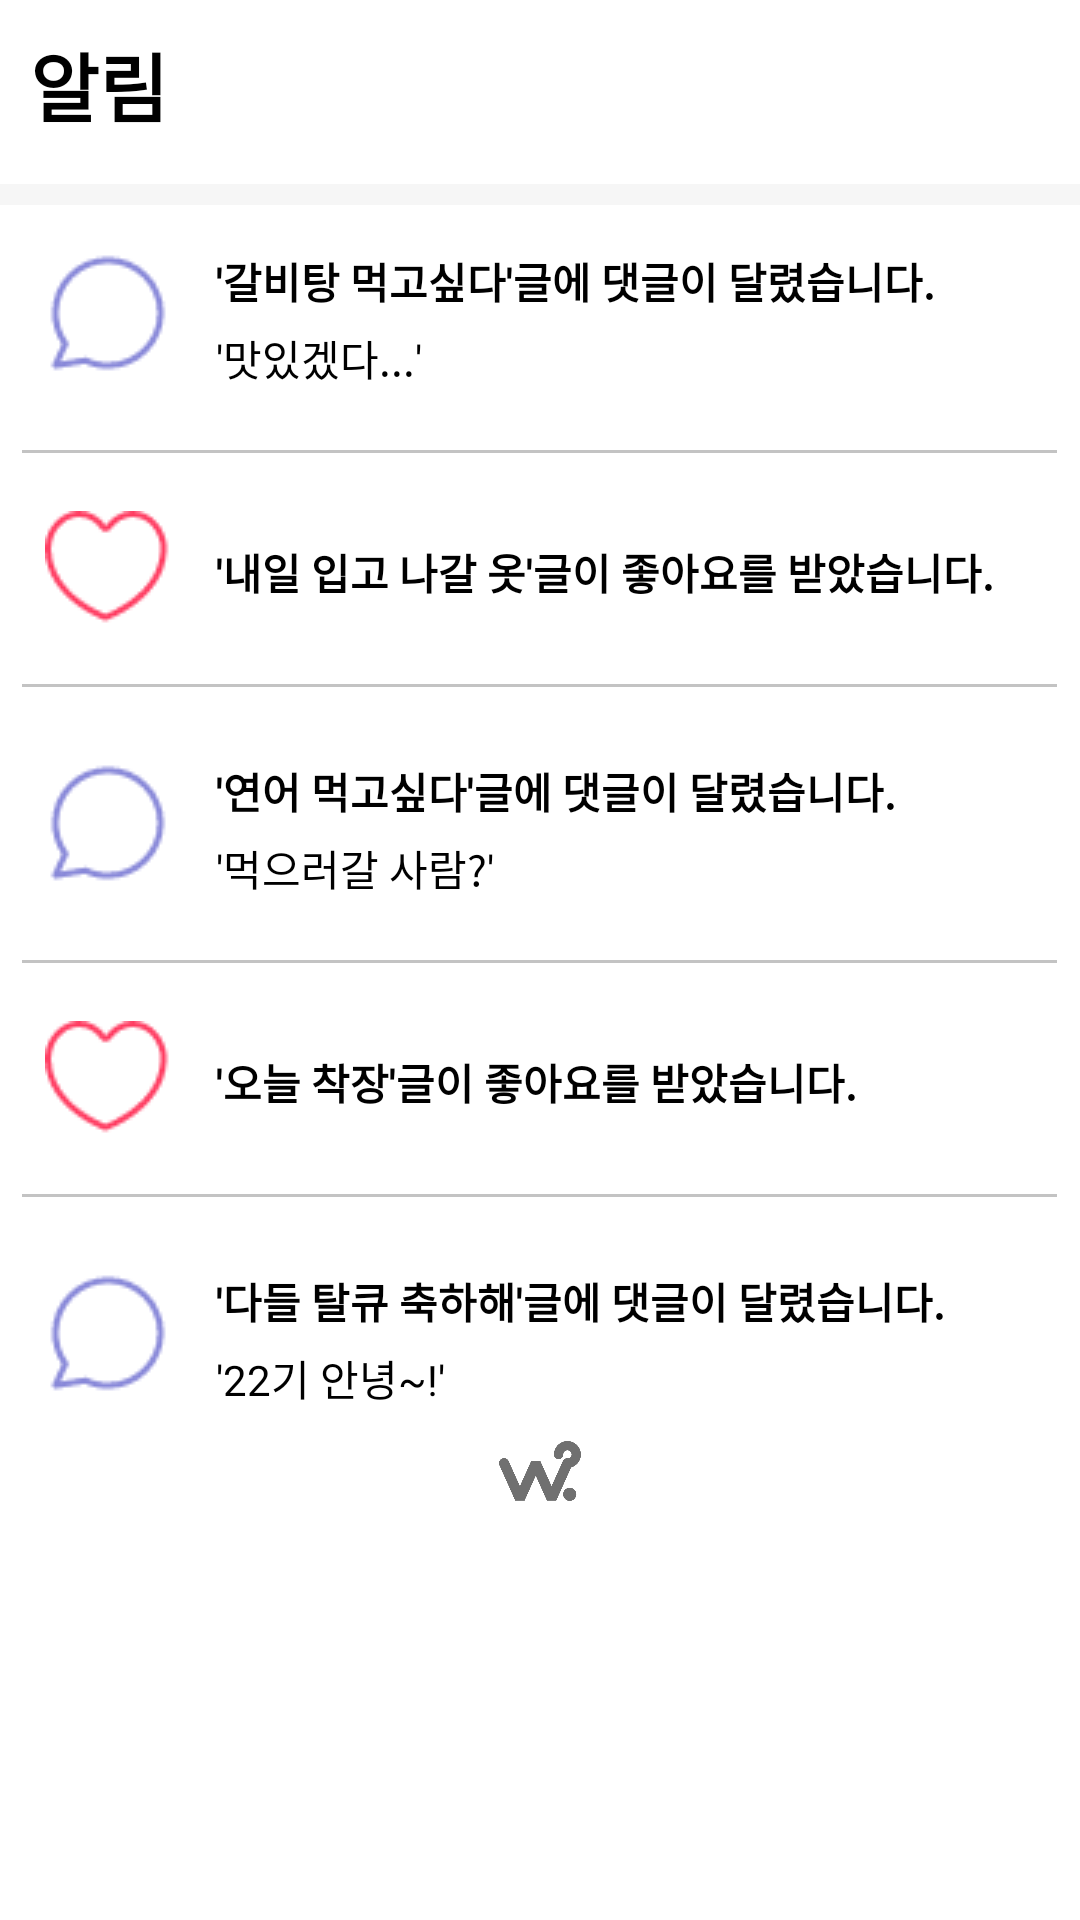

Icon click points for this 1080*1920 phone screenshot, format point (x, y):
heart: point (107, 567), point (107, 1077)
talk: point (108, 313), point (108, 823), point (108, 1333)
